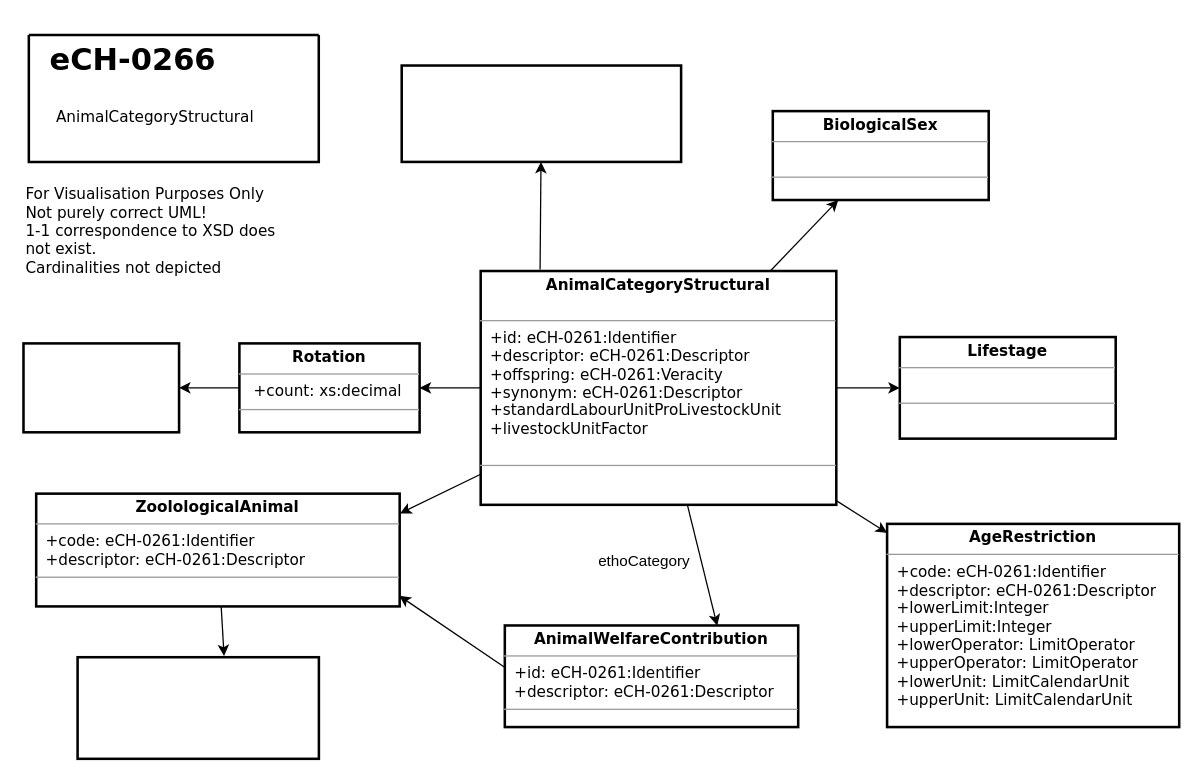
Some shapes in this 1201 by 781 pixel diagram are drawn without their labels. The shapes that lost their labels are listed below. From the top down, each one's box as (x1, y1, x2, y2) in pixels, then its label:
(400, 64, 682, 163): AnimalCategoryPRIF
(22, 342, 180, 433): TypeOfRotation
(76, 655, 320, 759): TaxonomyAuthority
